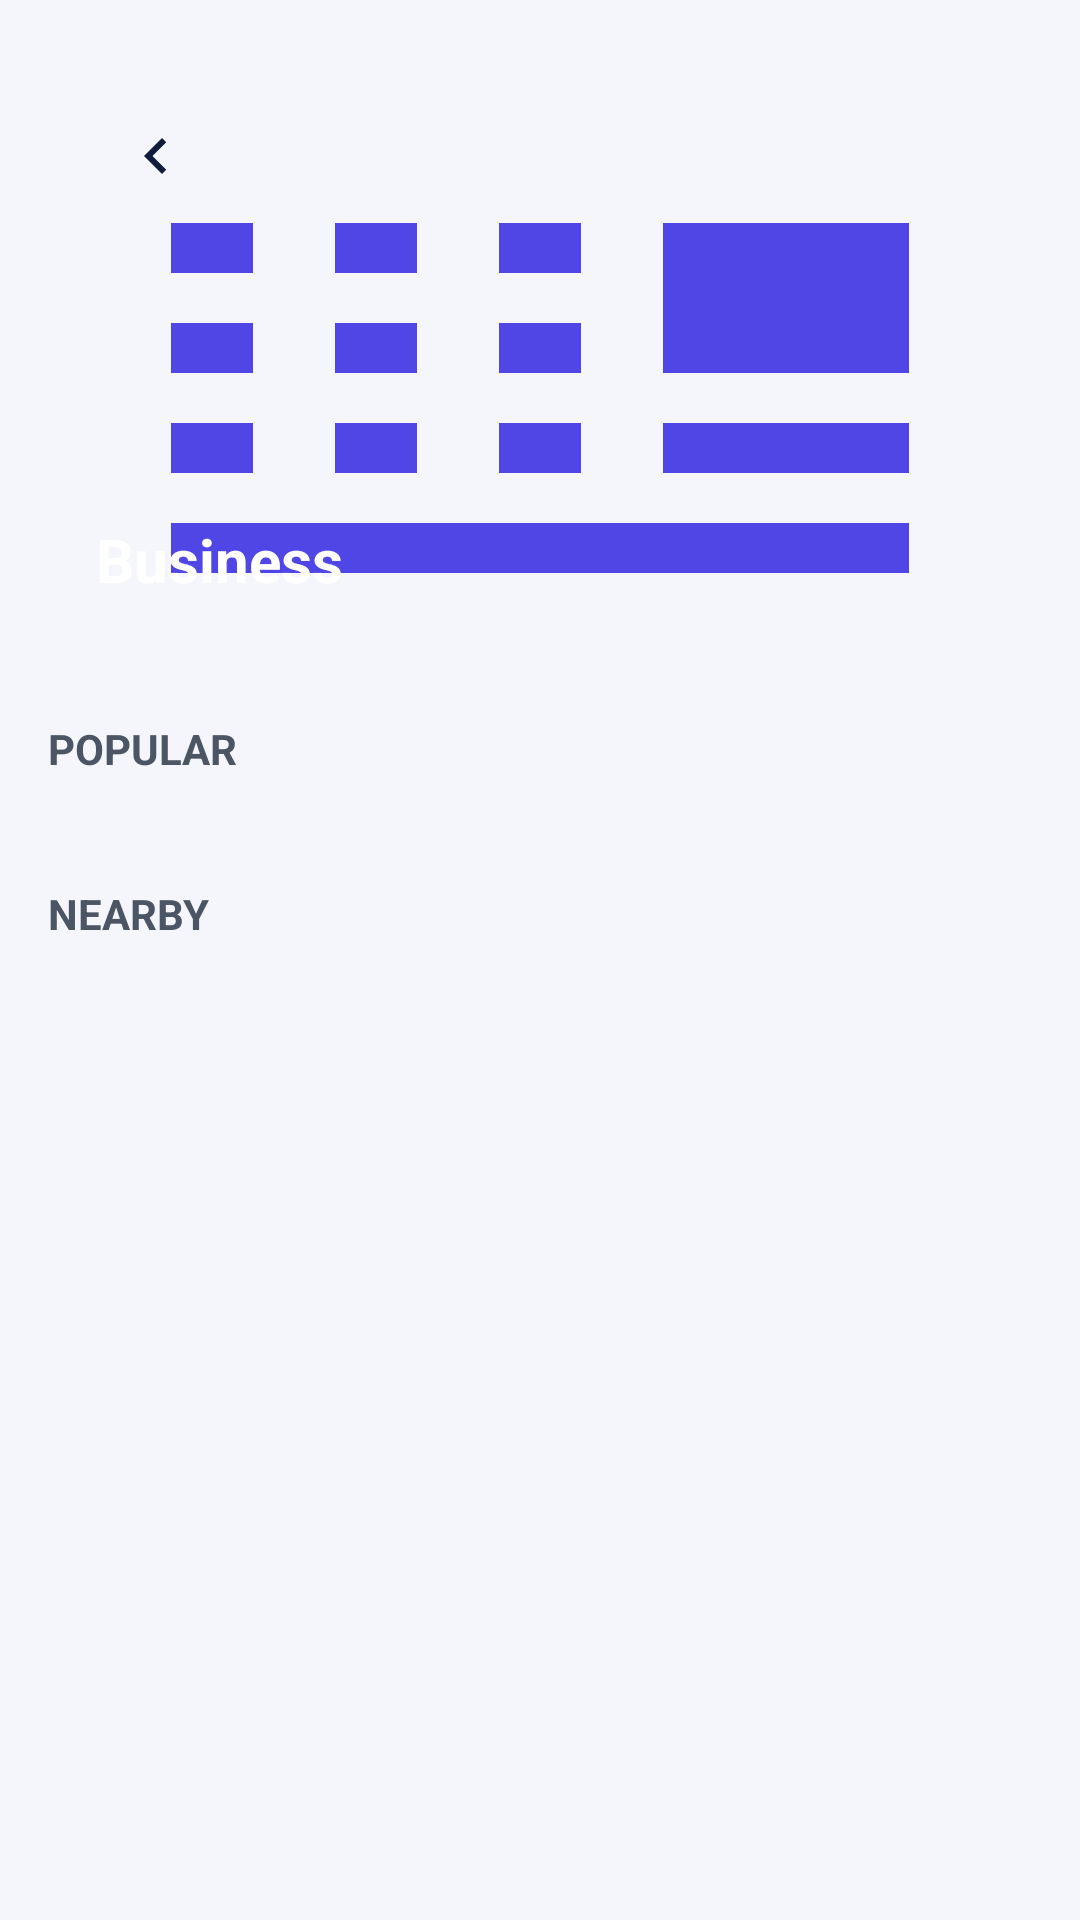

Point at icon controls on the screen. Image size 1080px x 1920px, points as (x,y).
Back: (155,156)
